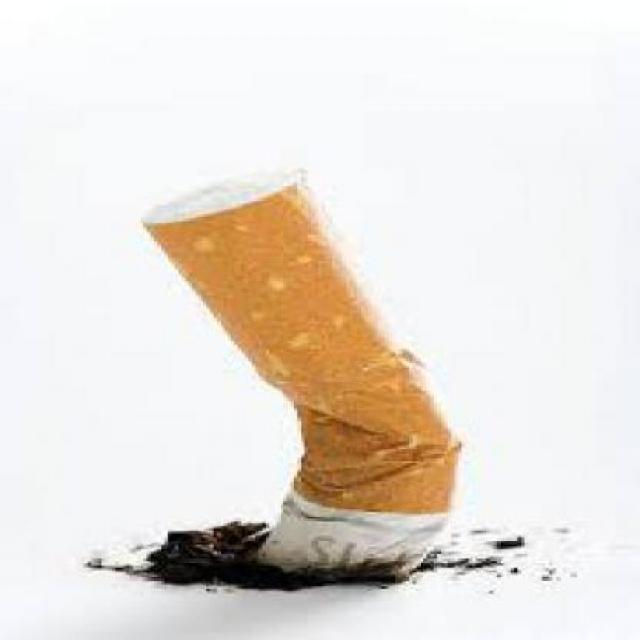cigarette: (147, 145, 493, 589)
